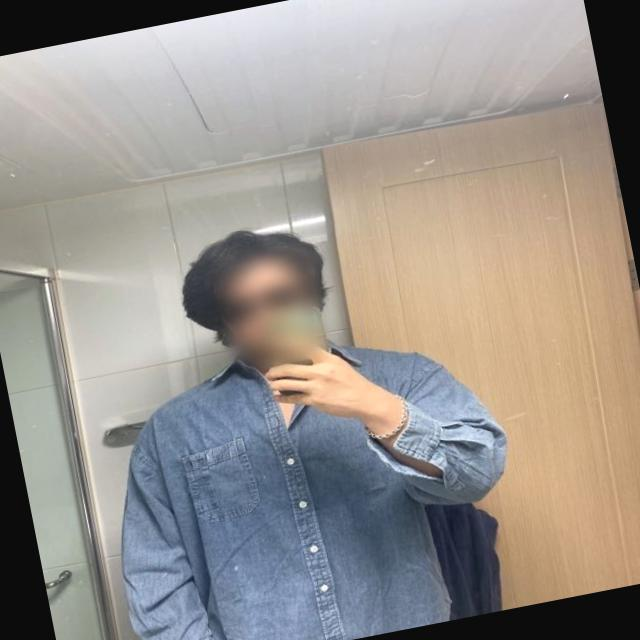shirt: (81, 307, 540, 640)
